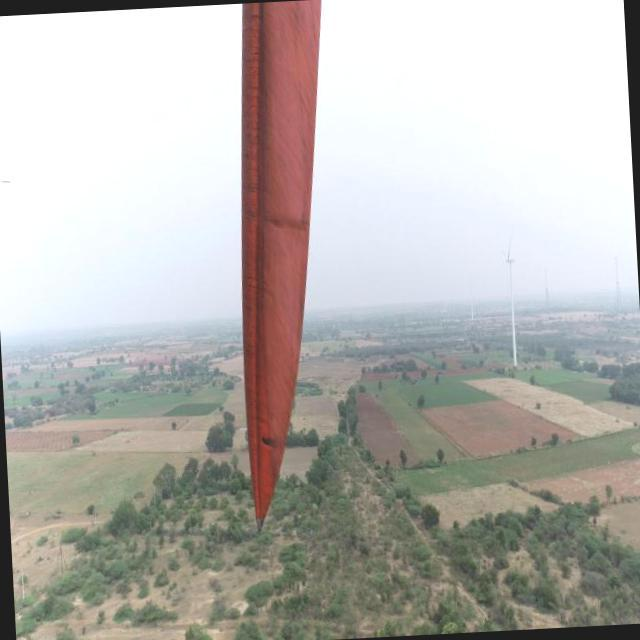Dirt: (242, 0, 320, 538)
Oil LEAKAGE: (260, 439, 277, 449)
